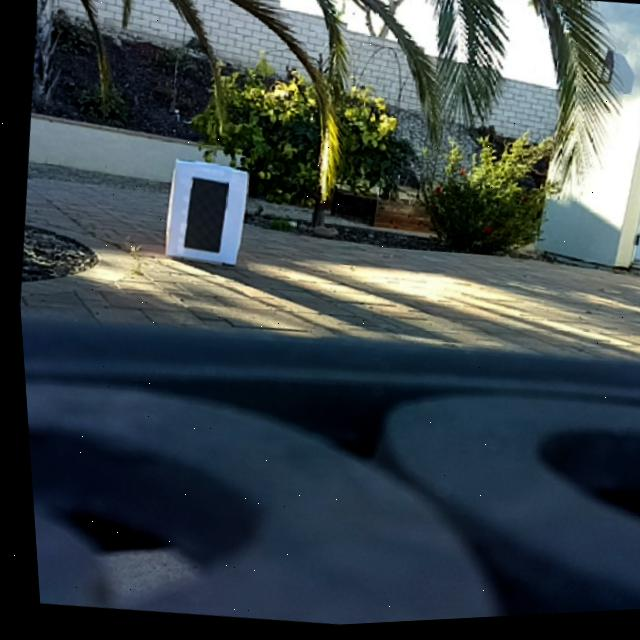led: (175, 174, 229, 260)
